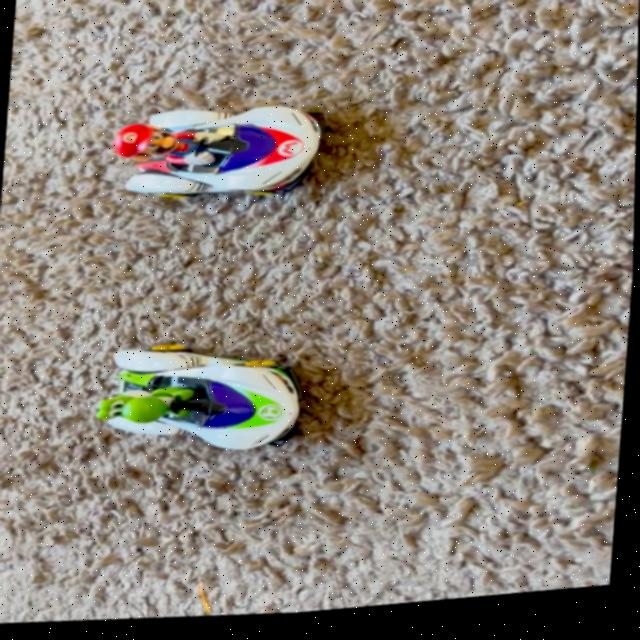mario: (95, 77, 345, 221)
yoshi: (84, 318, 327, 483)
